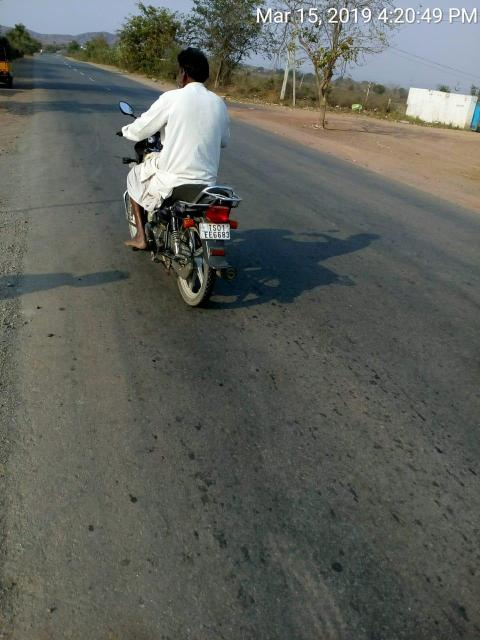motor: (120, 135, 240, 309), (178, 48, 210, 88)
